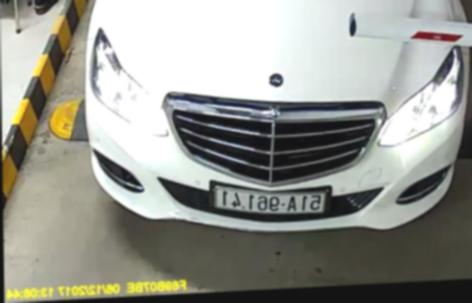License_Plate: (212, 180, 330, 221)
